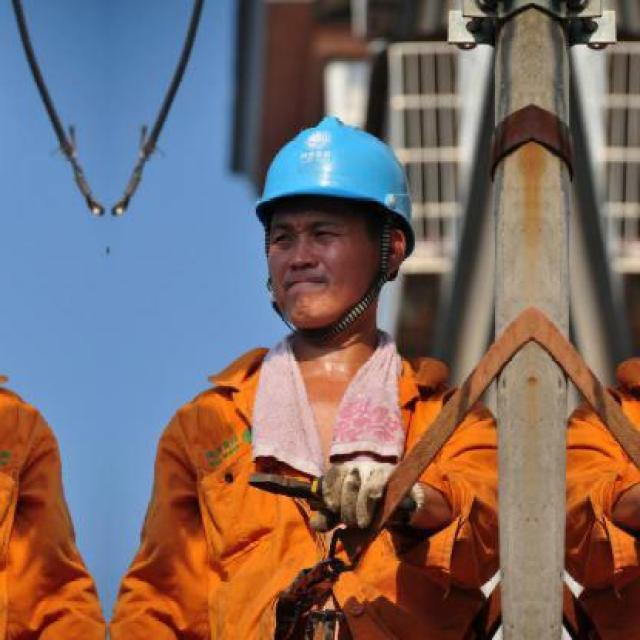safetyhelmet: (251, 110, 421, 307)
